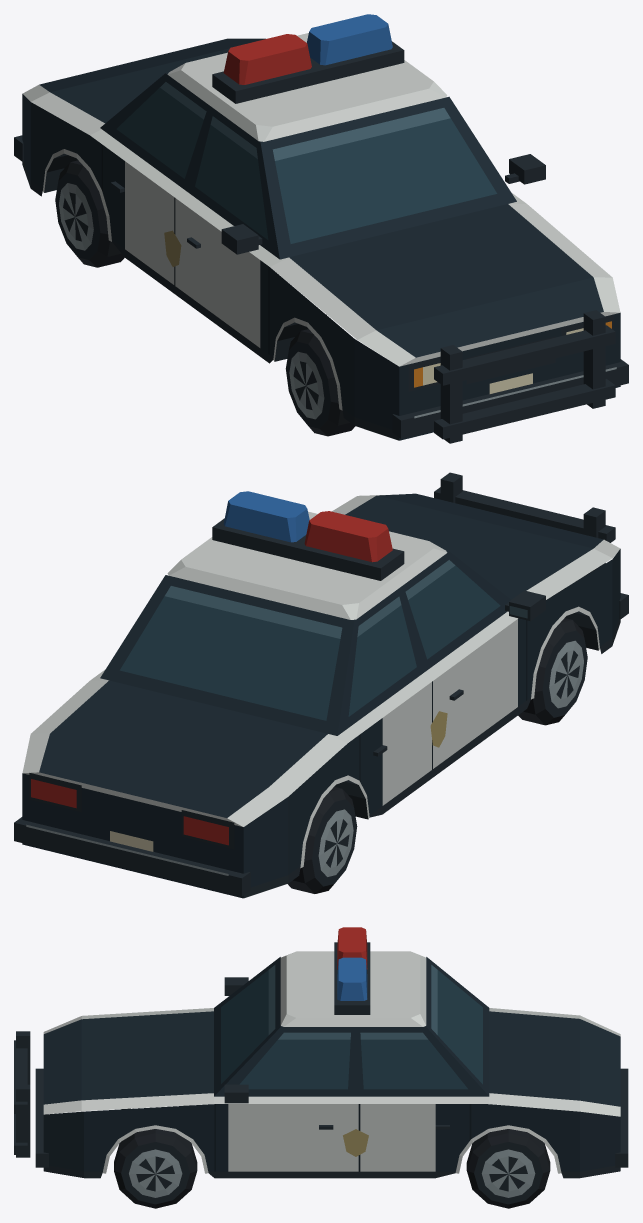
Rendered from police.glb.
The picture shows the model from 3 angles, top to bottom: view 1: azimuth 30°, elevation 25°; view 2: azimuth 150°, elevation 25°; view 3: azimuth 270°, elevation 25°; orthographic projection. The views are drawn at different scales.
Visible parts, largest first — view 1: PoliceBody, EmergencyRed, EmergencyBlue; view 2: PoliceBody, EmergencyRed, EmergencyBlue; view 3: PoliceBody, EmergencyBlue, EmergencyRed.
Part boxes in pixels (x1,y1,x2,y2): PoliceBody: (14, 33, 628, 443); EmergencyRed: (223, 34, 311, 84); EmergencyBlue: (307, 14, 392, 65); PoliceBody: (14, 472, 628, 898); EmergencyRed: (304, 511, 392, 562); EmergencyBlue: (223, 491, 309, 542); PoliceBody: (14, 942, 628, 1208); EmergencyBlue: (337, 957, 367, 1000); EmergencyRed: (337, 927, 367, 969).
Bounding box in the file's own units: 2.29 × 1.93 × 5.16.
